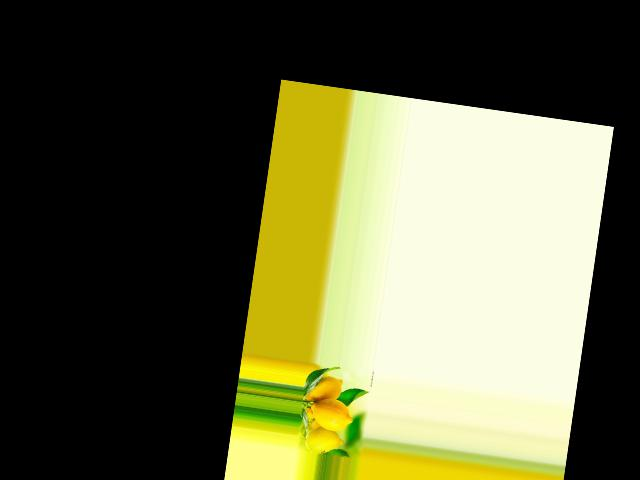lemon: (302, 425, 346, 454)
